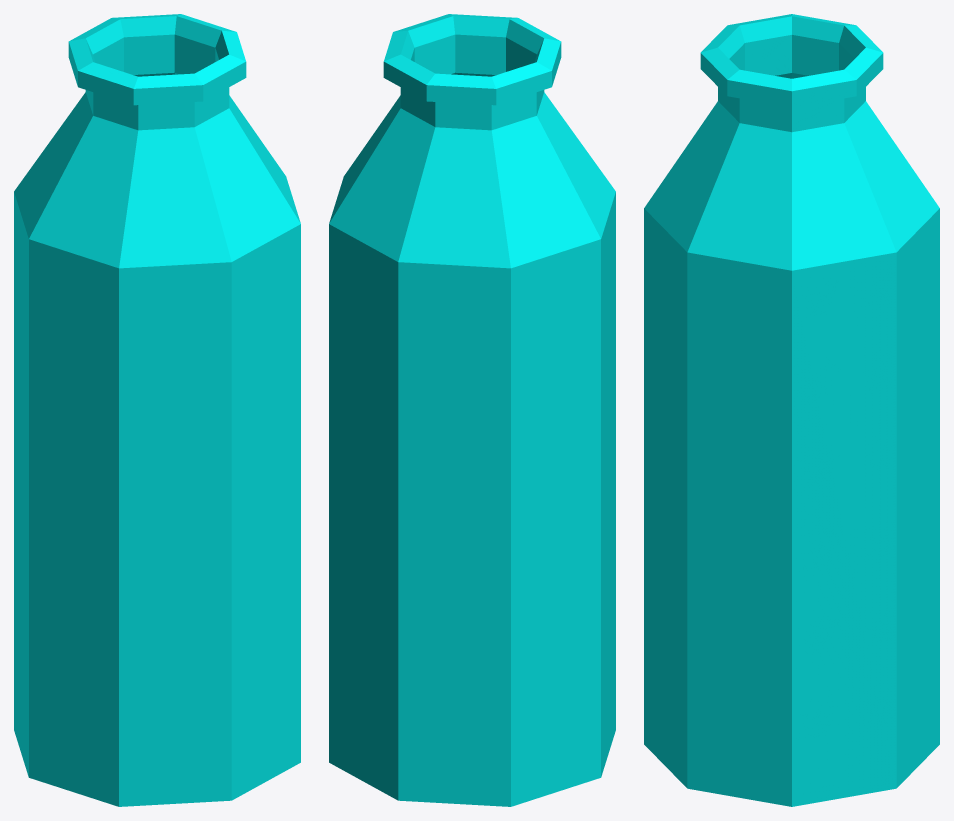
Rendered from Glass Bottle.glb.
The picture shows the model from 3 angles, left to right: view 1: azimuth 30°, elevation 25°; view 2: azimuth 150°, elevation 25°; view 3: azimuth 270°, elevation 25°; orthographic projection.
Visible parts, largest first — view 1: Glass Bottle; view 2: Glass Bottle; view 3: Glass Bottle.
Boxes of the visible parts, x1=… form: Glass Bottle: x1=14, y1=14, x2=300, y2=806; Glass Bottle: x1=329, y1=14, x2=615, y2=806; Glass Bottle: x1=644, y1=14, x2=939, y2=806.
Size of the model in its own units: 0.1 by 0.2599 by 0.1.
1 material, 1 textured.
